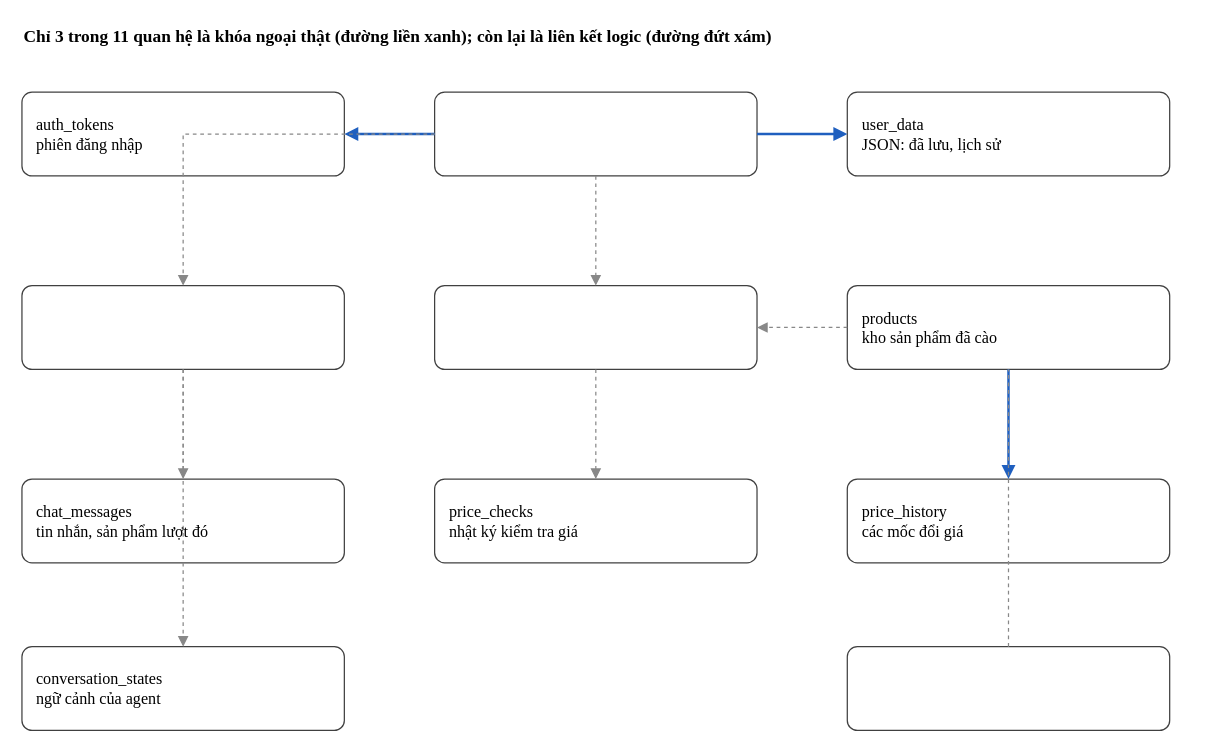
This 1230x753 diagram has some shape labels left out. The shapes that lost their labels are listed below. From the top down, each one's centre as x and y in pixels, then its label:
At pixel 595 133: "users tài khoản, vai trò".
At pixel 182 326: "chat_sessions đoạn chat".
At pixel 595 326: "price_alerts yêu cầu theo dõi giá".
At pixel 1008 687: "search_cache product_ids dạng JSON".
